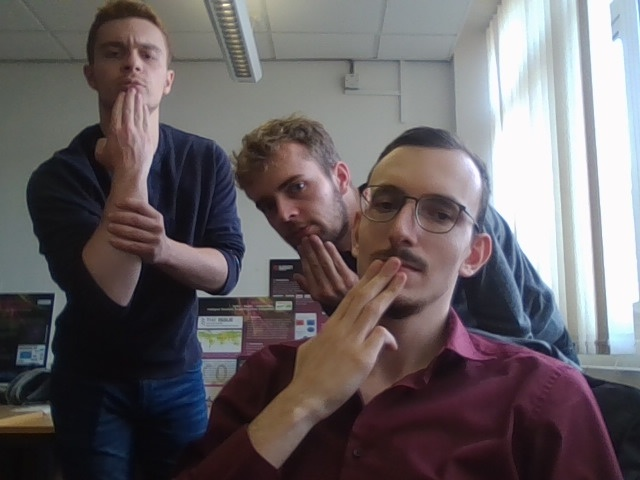livelong: (294, 255, 408, 407), (94, 87, 161, 186), (292, 233, 366, 318)
